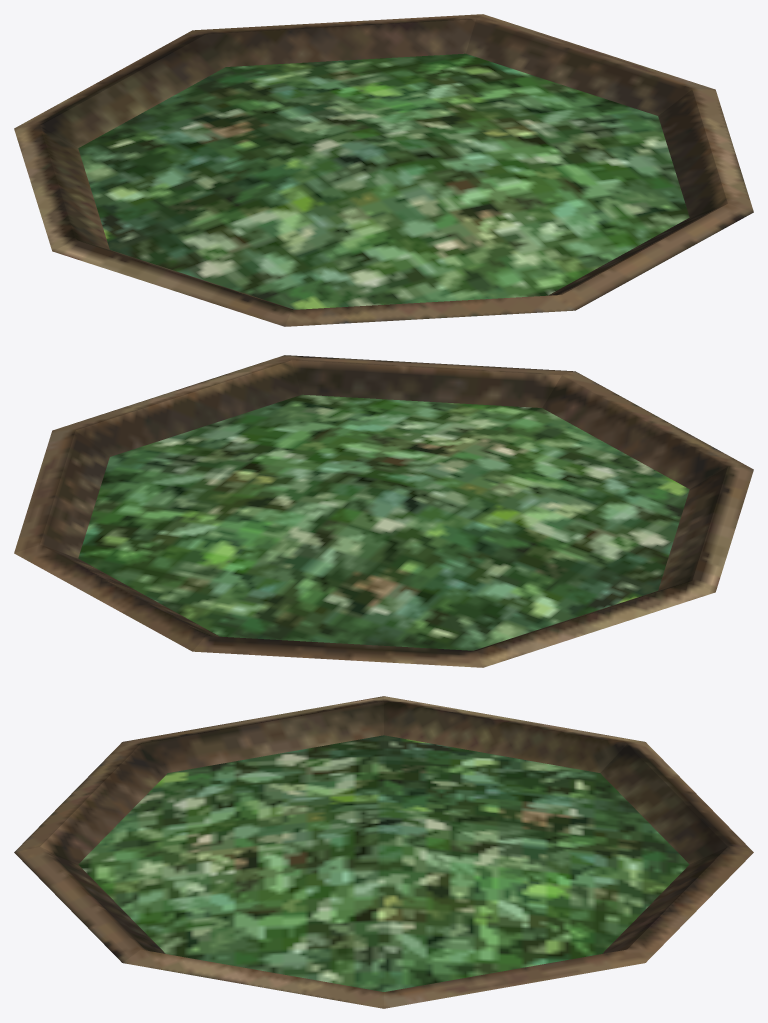
Rendered from a_wujian_shaizi.fbx.
3 views of the same model, one above another, from view 1: azimuth 30°, elevation 25°; view 2: azimuth 150°, elevation 25°; view 3: azimuth 270°, elevation 25° (orthographic). The views are drawn at different scales.
Visible parts, largest first — view 1: a_wujian_shaizi; view 2: a_wujian_shaizi; view 3: a_wujian_shaizi.
Part boxes in pixels (box(x1,y1,x2,y2)): a_wujian_shaizi: box(14, 14, 753, 326); a_wujian_shaizi: box(14, 355, 753, 667); a_wujian_shaizi: box(14, 696, 753, 1008).
Bounding box in the file's own units: 2 × 0.1645 × 2.
